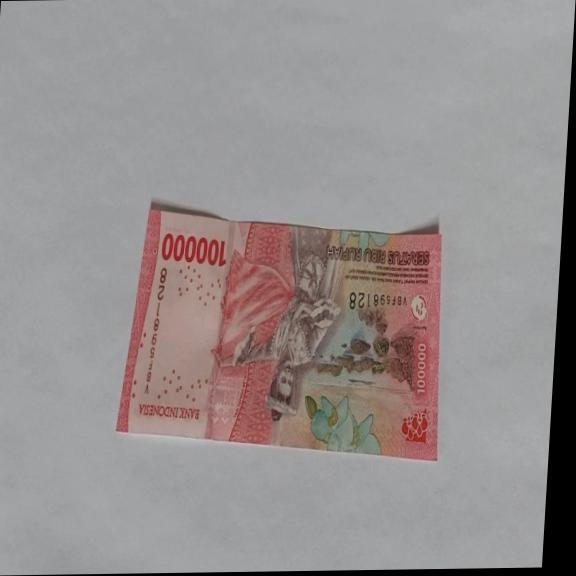Kertas: (159, 230, 228, 269)
